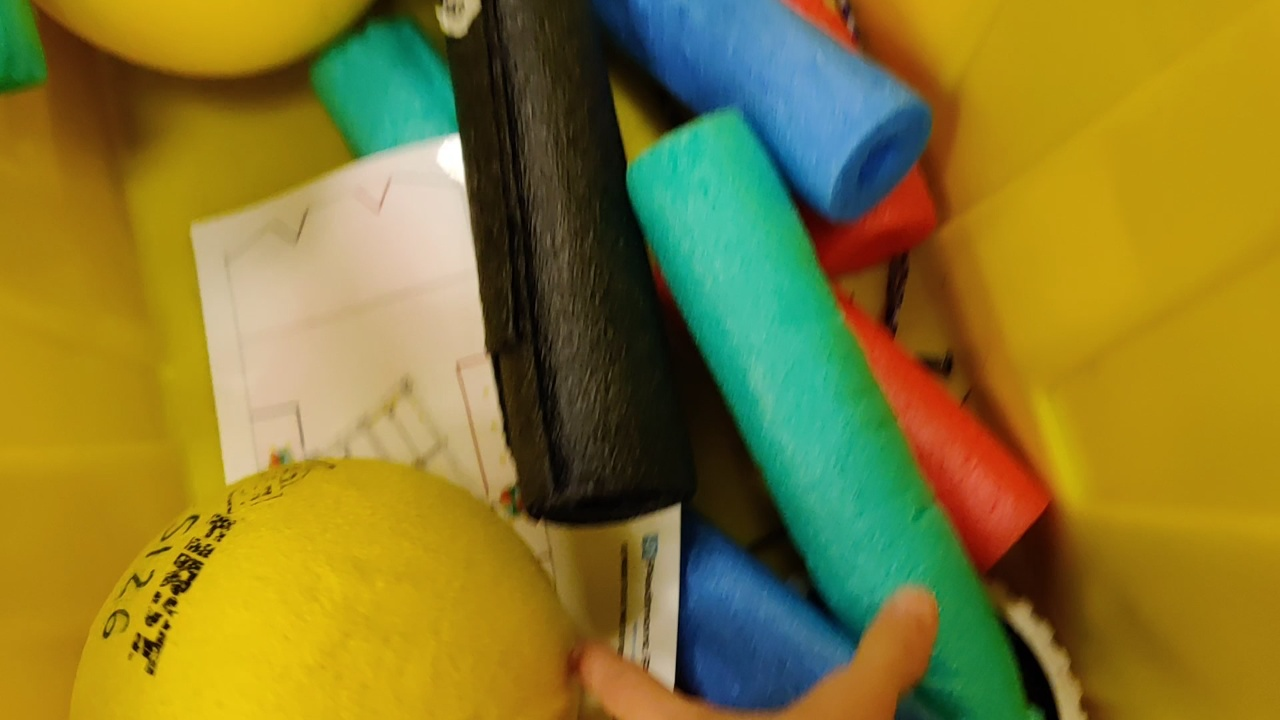Ball: (68, 456, 587, 720)
